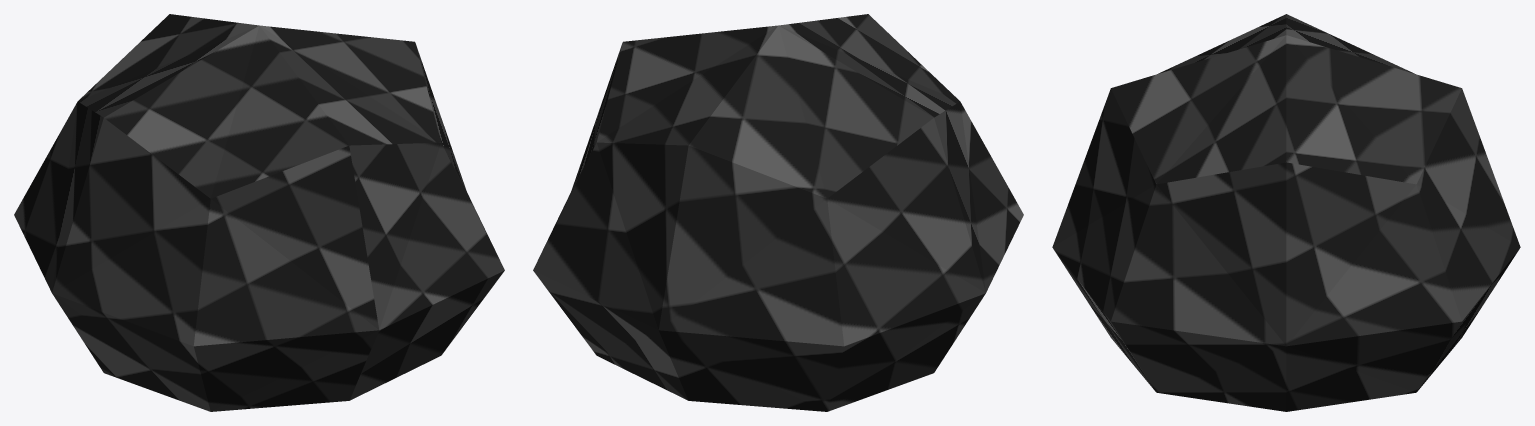
The model's file is Coal.dae.
3 renders of one model, left to right at view 1: azimuth 30°, elevation 25°; view 2: azimuth 150°, elevation 25°; view 3: azimuth 270°, elevation 25°, orthographic. The views are drawn at different scales.
Parts seen in each view (by area): view 1: Cube; view 2: Cube; view 3: Cube.
Part boxes in pixels (<box>): Cube: <box>14,14,504,411</box>; Cube: <box>533,14,1023,411</box>; Cube: <box>1052,14,1520,411</box>.
Size of the model in its own units: 0.5 by 0.5 by 0.3565.
1 material, 1 textured.
